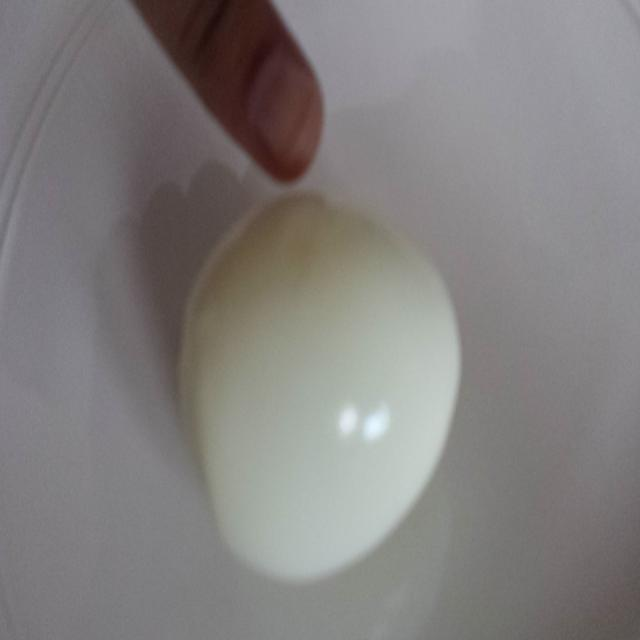egg: (179, 188, 476, 577)
